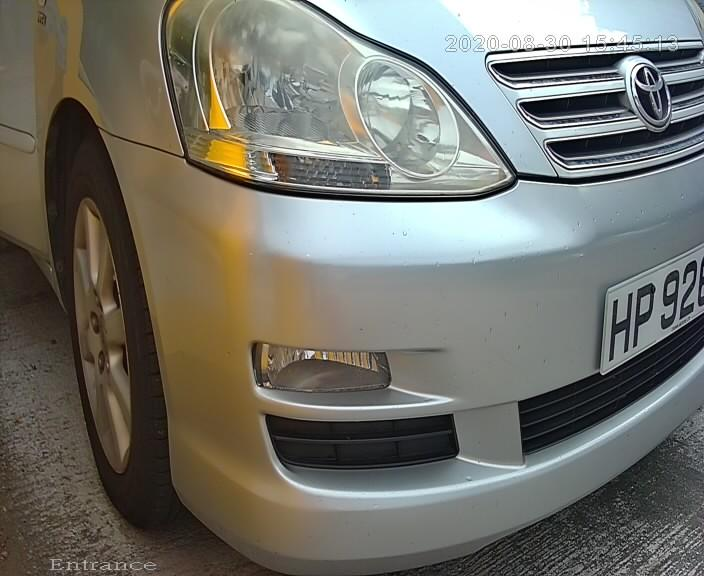License Plate: (598, 242, 695, 386)
